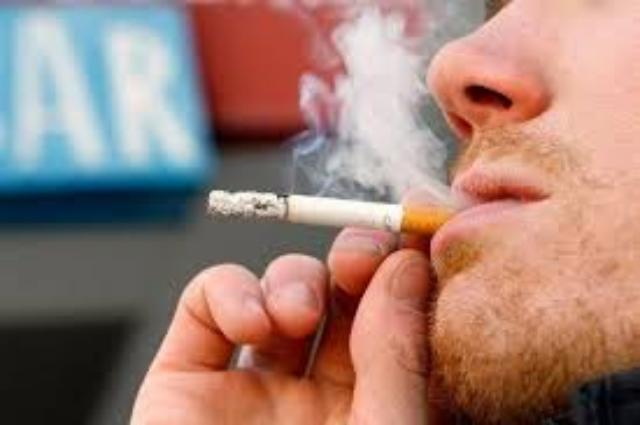Smoking: (208, 190, 478, 238)
